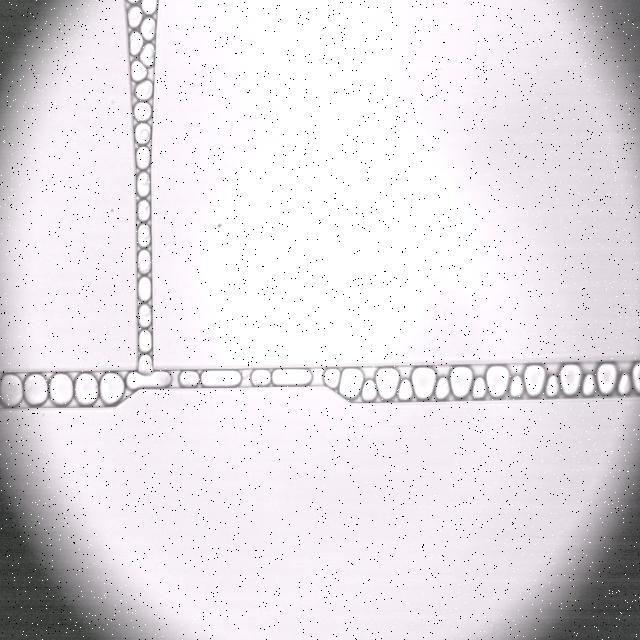L: (135, 80, 153, 100), (136, 172, 150, 196), (140, 43, 154, 66), (179, 371, 199, 387), (251, 370, 271, 386), (135, 123, 150, 144), (361, 380, 376, 401), (128, 6, 142, 28), (141, 18, 155, 40), (138, 330, 152, 352), (398, 379, 412, 401), (435, 378, 449, 400), (134, 103, 151, 121), (131, 61, 146, 81), (324, 368, 339, 388), (137, 224, 150, 247), (138, 277, 151, 300), (136, 147, 150, 168), (138, 304, 151, 326), (138, 355, 153, 374), (472, 378, 486, 398), (130, 32, 142, 55), (137, 250, 149, 273), (137, 200, 150, 220), (510, 376, 523, 396), (545, 377, 558, 397), (618, 374, 631, 394), (582, 374, 594, 395), (142, 0, 157, 13)
S: (127, 371, 171, 389), (0, 374, 23, 407), (412, 367, 436, 398), (50, 373, 73, 405), (376, 368, 399, 400), (24, 374, 47, 405), (75, 374, 98, 405), (340, 368, 363, 399), (486, 366, 509, 397), (101, 373, 124, 403), (450, 367, 473, 397), (201, 370, 241, 387), (273, 369, 312, 386), (524, 365, 545, 396), (560, 364, 581, 395), (597, 363, 617, 394), (632, 363, 640, 393)
